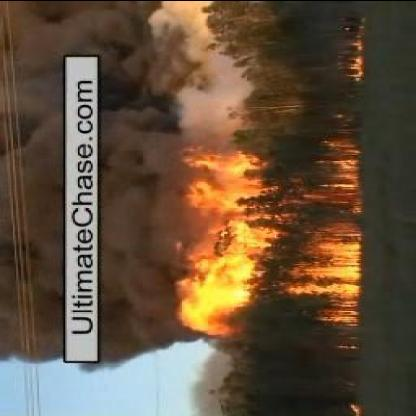-: (5, 39, 60, 367), (106, 21, 220, 150), (102, 171, 172, 354)
foggia-v2-map80-epoch100 - v1 4323: (292, 242, 358, 297)
